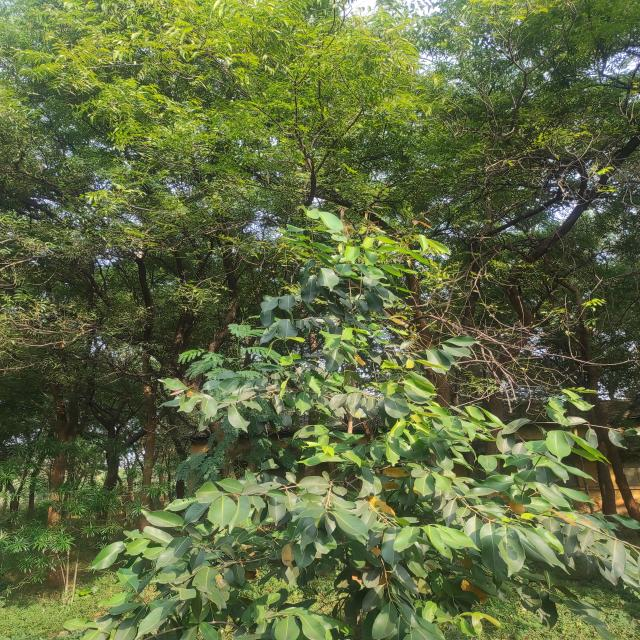Neem Tree: (1, 1, 640, 296)
